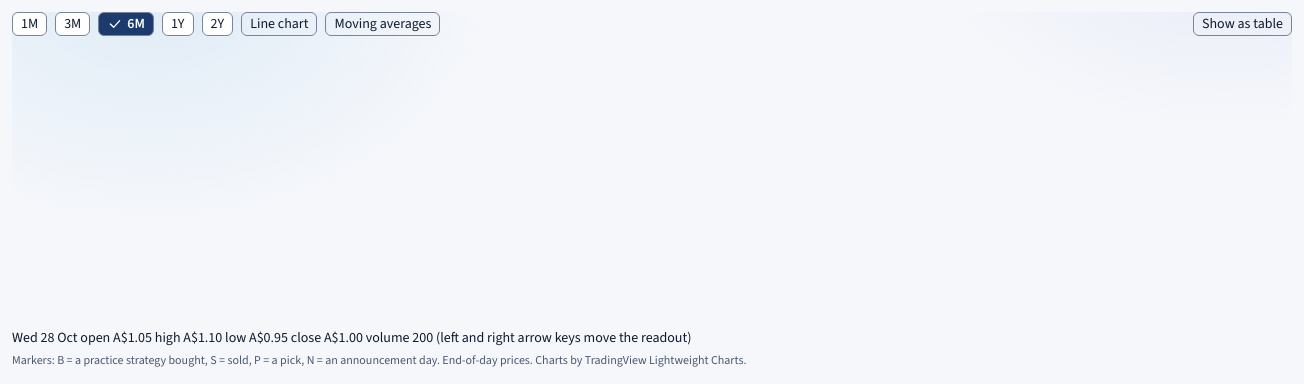
Scenario: CompanyChart dates (D-919) › the readout, summary and table use plain days, never ISO dates
Click the button "Show as table". click: (1242, 24)
box: [1193, 12, 1292, 36]
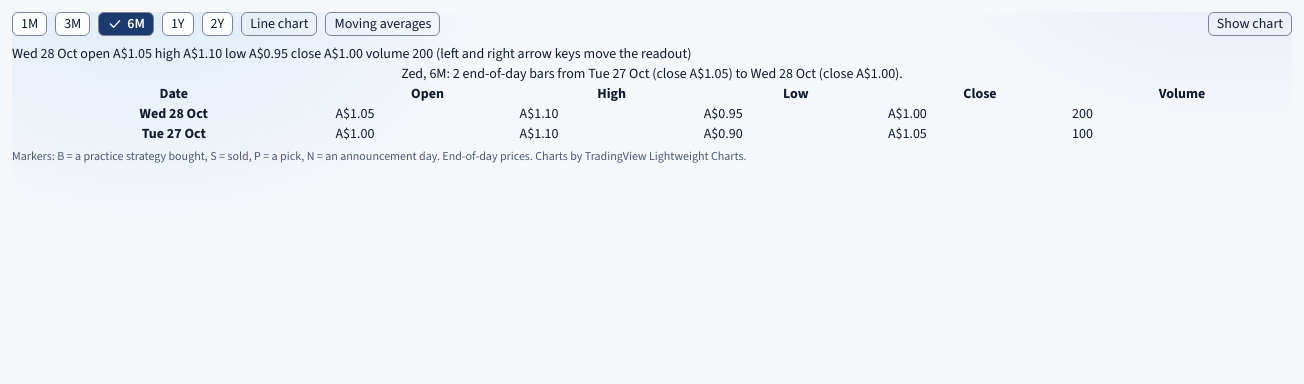
expect the text "Wed 28 Oct" is shown: met, box [12, 44, 433, 63]
expect the text "Tue 27 Oct" is shown: met, box [401, 64, 903, 83]
